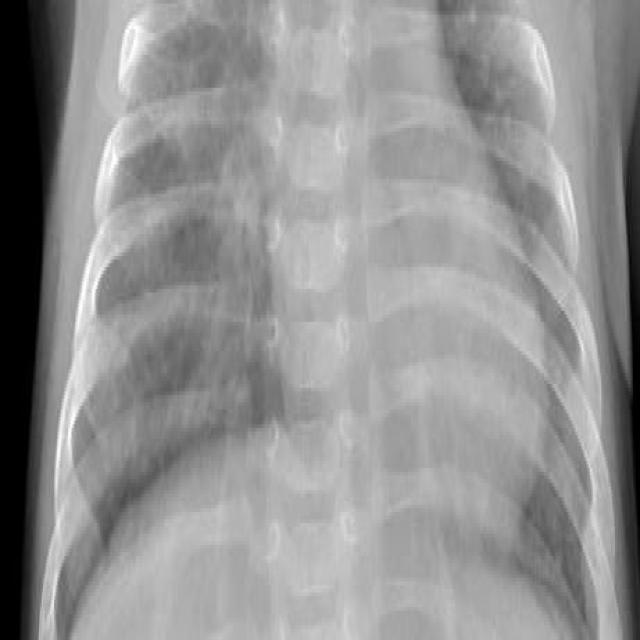low-pneumonia: (209, 51, 273, 355), (464, 6, 542, 124)
